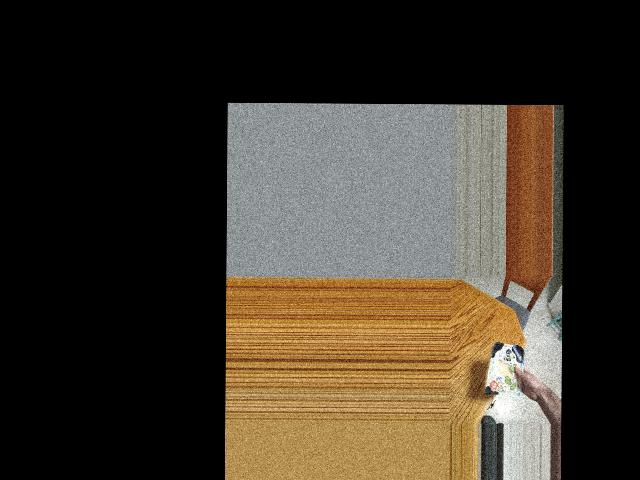cheese: (485, 342, 530, 396)
